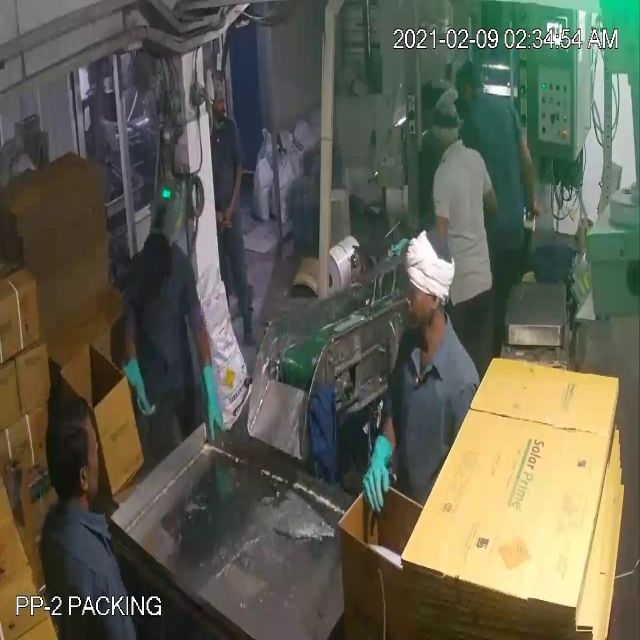Guantes: (343, 427, 403, 524), (190, 356, 231, 450), (118, 343, 160, 415)
Sin_guantes: (512, 123, 548, 236)
